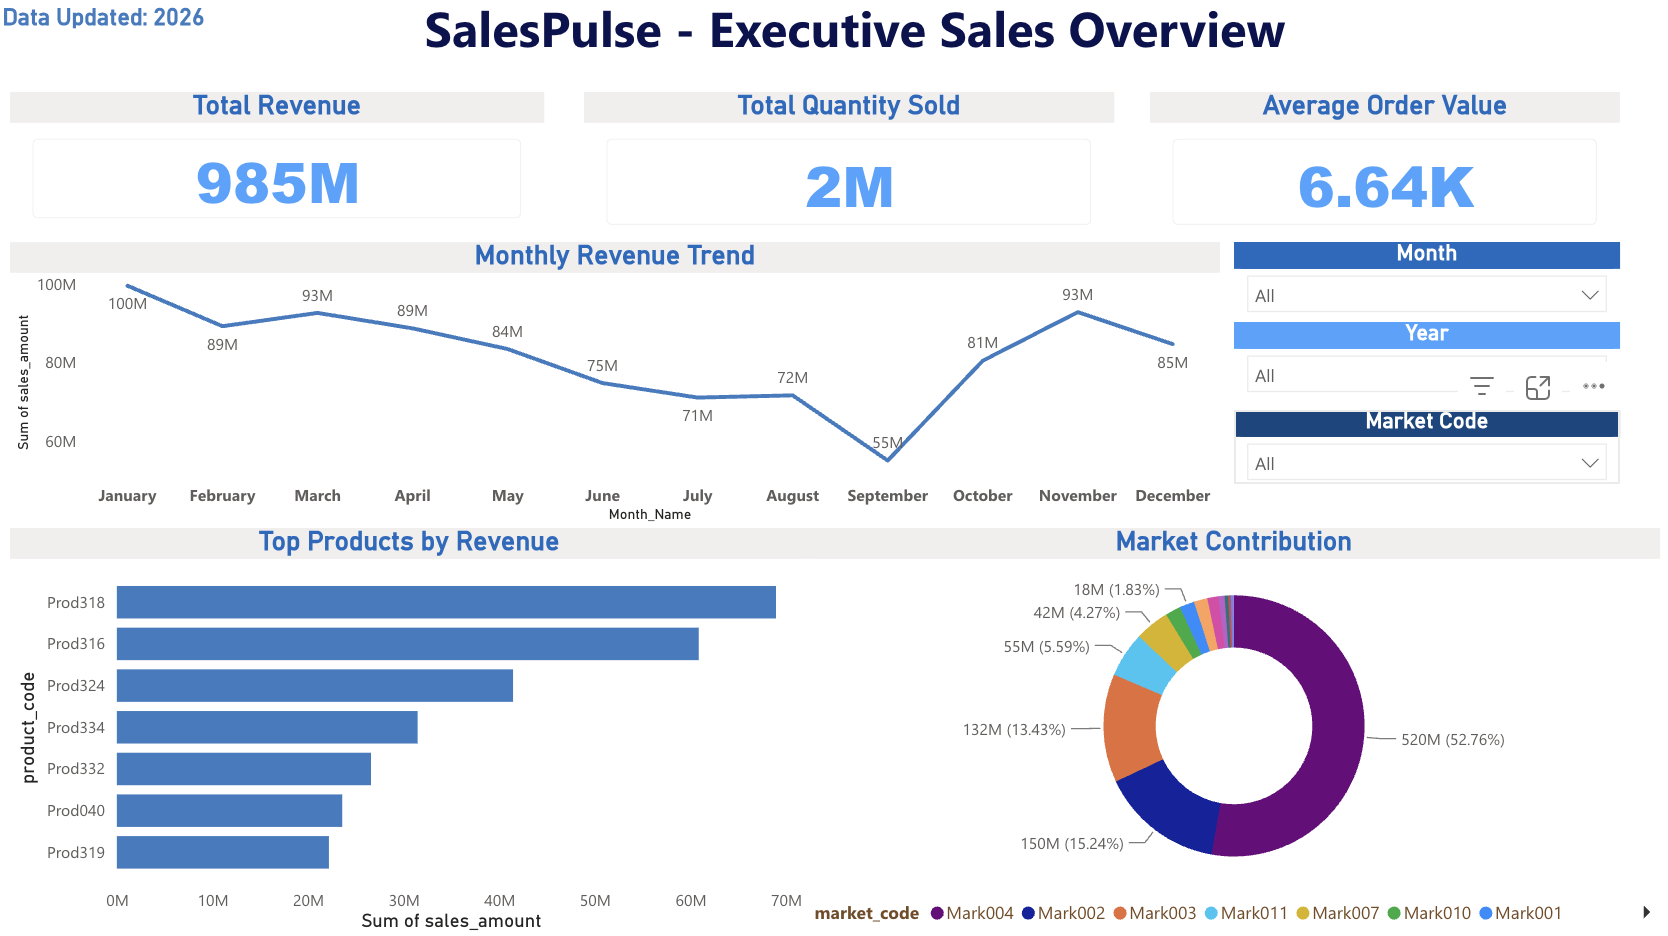

What the dashboard file says about the page in this screenshot:
{"tool":"powerbi","page":{"name":"Executive Sales Overview","canvas":[1280,720],"ordinal":0},"visuals":[{"type":"cardVisual","title":"Total Quantity Sold","fields":{"Data":["Sum(final_sales_features.sales_qty)"]},"box":[448.5,74.8,404.3,119],"z":0},{"type":"cardVisual","title":"Average Order Value","fields":{"Data":["Avg(final_sales_features.sales_amount)"]},"box":[880.3,74.8,358.5,119],"z":1000},{"type":"lineChart","title":"Monthly Revenue Trend","fields":{"Category":["final_sales_features.Month_Name"],"Y":["Sum(final_sales_features.sales_amount)"]},"box":[10.7,189.2,923,218.2],"z":2000},{"type":"clusteredBarChart","title":"Top Products by Revenue","fields":{"Category":["final_sales_features.product_code"],"Y":["Sum(final_sales_features.sales_amount)"]},"box":[10.2,406.8,608.9,312.7],"z":3000},{"type":"donutChart","title":"Market Contribution","fields":{"Category":["final_sales_features.market_code"],"Y":["Sum(final_sales_features.sales_amount)"]},"box":[619.4,407.3,649.9,312.8],"z":4000},{"type":"slicer","title":"Year","fields":{"Values":["final_sales_features.Year"]},"box":[944.4,250.2,294.4,56.5],"z":5000},{"type":"slicer","title":"Month","fields":{"Values":["final_sales_features.Month_Name"]},"box":[944.4,189.2,294.4,56.5],"z":6000},{"type":"slicer","title":"Market Code","fields":{"Values":["final_sales_features.market_code"]},"box":[944.4,317.3,294.4,56.5],"z":7000},{"type":"cardVisual","title":"Total Revenue","fields":{"Data":["Sum(final_sales_features.sales_amount)"]},"box":[10.7,74.8,407.3,114.4],"z":8000},{"type":"cardVisual","title":"SalesPulse - Executive Sales Overview","fields":{"Data":["Sum(final_sales_features.sales_amount)"]},"box":[321.9,0,697.2,50.4],"z":9000},{"type":"cardVisual","title":"Data Updated: 2026","fields":{"Rows":["final_sales_features.market_code"]},"box":[0,9.2,167.8,16.8],"z":10000}]}

Visuals, with their boxes in screenshot pixels (x1, y1, x2, y2), scaled from the page's 1280x720 canvas onto the 1668x936 screenshot:
"Total Quantity Sold" cardVisual: crop(584, 97, 1111, 252)
"Average Order Value" cardVisual: crop(1147, 97, 1614, 252)
"Monthly Revenue Trend" lineChart: crop(14, 246, 1217, 530)
"Top Products by Revenue" clusteredBarChart: crop(13, 529, 807, 935)
"Market Contribution" donutChart: crop(807, 529, 1654, 935)
"Year" slicer: crop(1231, 325, 1614, 399)
"Month" slicer: crop(1231, 246, 1614, 319)
"Market Code" slicer: crop(1231, 412, 1614, 486)
"Total Revenue" cardVisual: crop(14, 97, 545, 246)
"SalesPulse - Executive Sales Overview" cardVisual: crop(419, 0, 1328, 66)
"Data Updated: 2026" cardVisual: crop(0, 12, 219, 34)
